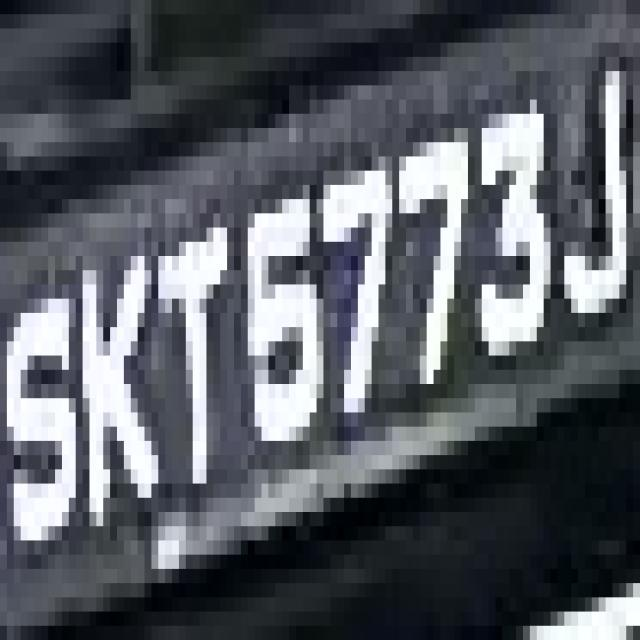3: (475, 29, 550, 412)
5: (241, 142, 330, 484)
7: (379, 100, 461, 412), (316, 142, 386, 484)
J: (558, 29, 620, 412)
K: (69, 185, 165, 540)
S: (14, 242, 89, 583)
T: (144, 185, 254, 483)
